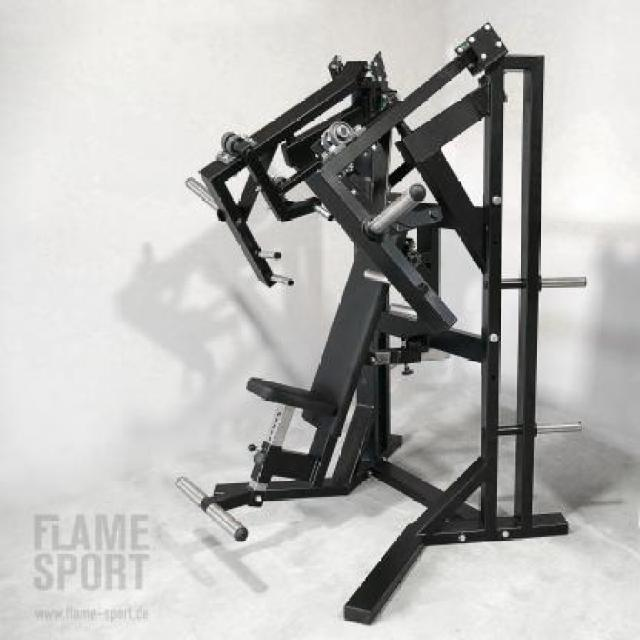Chest Press machine: (137, 17, 601, 626)
